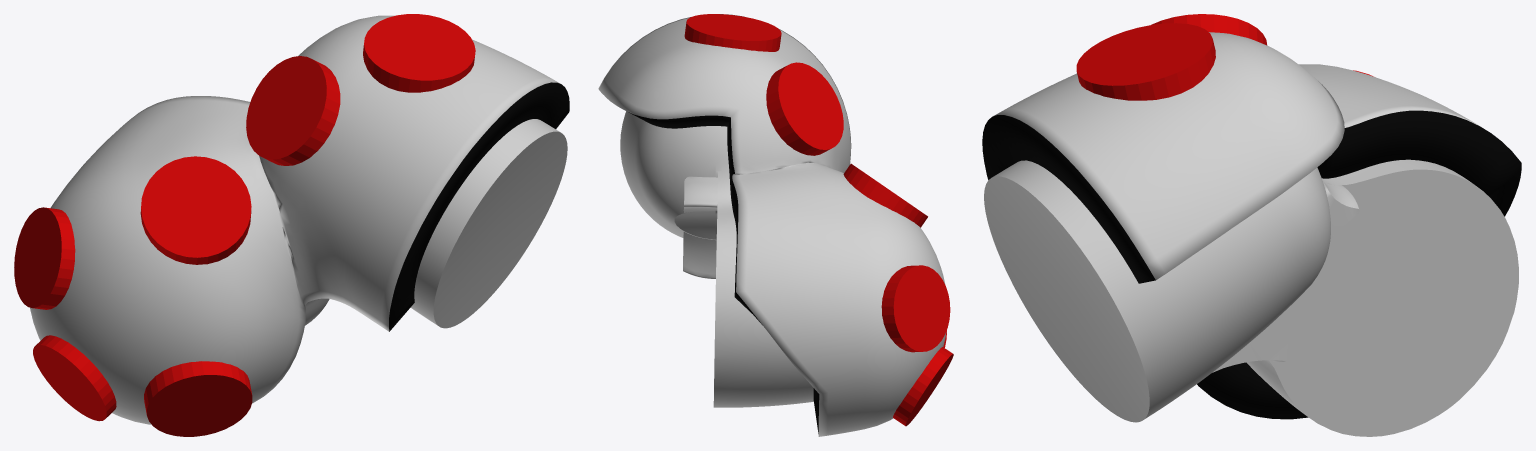
The model's file is panda_link4.002.obj.
3 renders of one model, left to right at view 1: azimuth 30°, elevation 25°; view 2: azimuth 150°, elevation 25°; view 3: azimuth 270°, elevation 25°, orthographic. The views are drawn at different scales.
Visible parts, largest first — view 1: panda_link4.002; view 2: panda_link4.002; view 3: panda_link4.002.
Part boxes in pixels (<box>): panda_link4.002: <box>14,14,569,436</box>; panda_link4.002: <box>598,14,953,436</box>; panda_link4.002: <box>982,14,1521,436</box>.
Size of the model in its own units: 0.2601 by 0.2029 by 0.2074.
